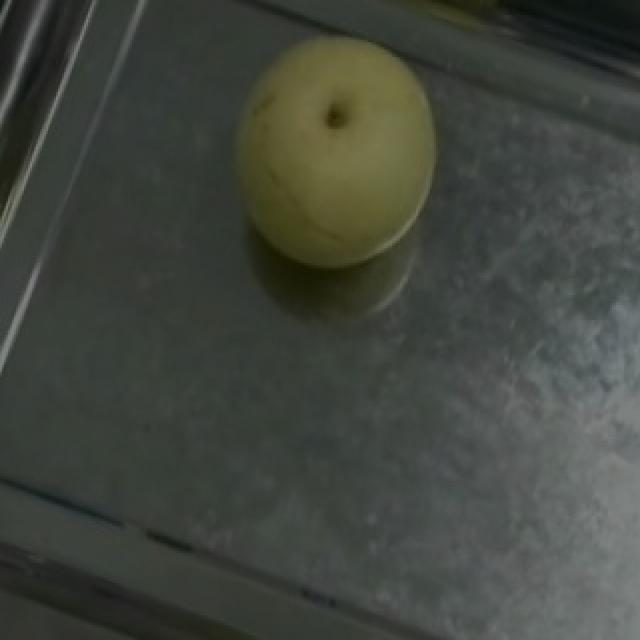Fruit: (182, 0, 480, 313)
